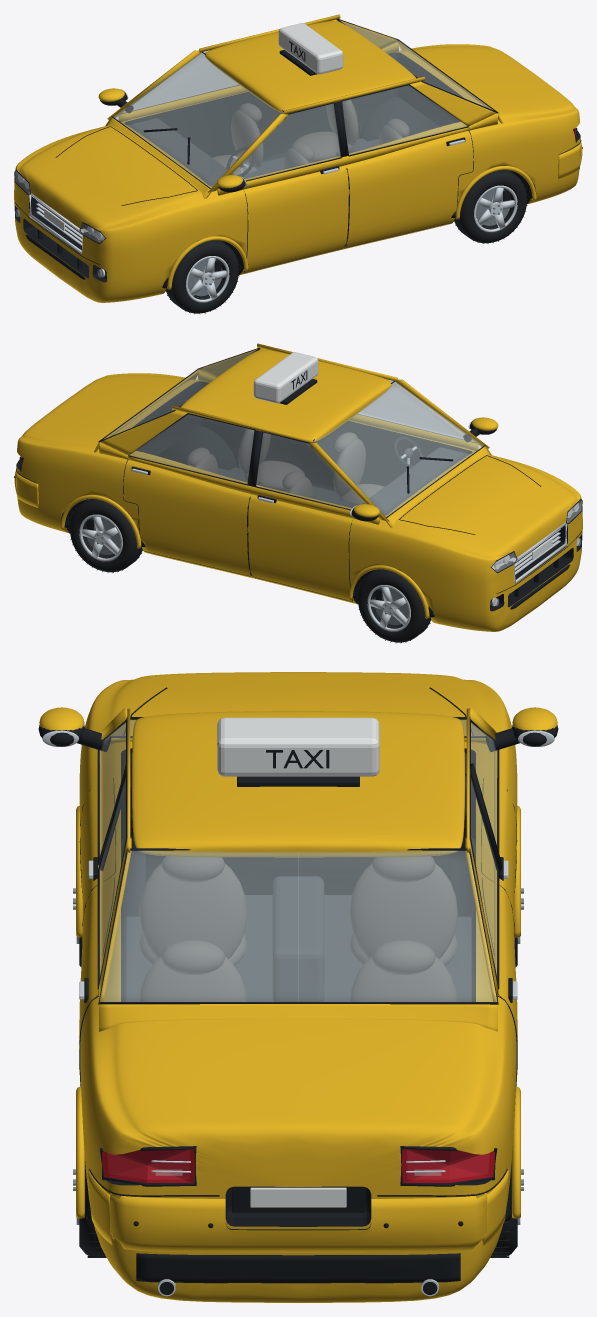
File: generic-city-taxi-with-taxi-roof-sign.glb
3 renders of one model, top to bottom at view 1: azimuth 30°, elevation 25°; view 2: azimuth 150°, elevation 25°; view 3: azimuth 270°, elevation 25°, orthographic. The views are drawn at different scales.
Visible parts, largest first — view 1: Original city_taxi fourteen-section body shell, Raked transparent windscreen, Separate closed door panel.001, Crowned roof pressing, Separate closed door panel, Rear door transparent glass, Front door transparent glass, Separate closed door panel.002, Separate closed door panel.003, Original tyre carcass and shaped sidewalls, Original tyre carcass and shaped sidewalls.002, Front door transparent glass.001 (+26 smaller); view 2: Original city_taxi fourteen-section body shell, Raked transparent windscreen, Separate closed door panel.003, Crowned roof pressing, Separate closed door panel.002, Rear door transparent glass.001, Front door transparent glass.001, Separate closed door panel, Separate closed door panel.001, Original tyre carcass and shaped sidewalls.001, Original tyre carcass and shaped sidewalls.003, Front door transparent glass (+27 smaller); view 3: Original city_taxi fourteen-section body shell, Rear transparent coupe glass, Crowned roof pressing, Formed painted rear bumper cover, TAXI roof sign, Sculpted rear lower bumper insert, Interior carpet, Contoured seat back, Contoured seat back.001, Painted rear glass sill, Center console, Contoured seat back.002 (+31 smaller).
Part boxes in pixels (x1,y1,x2,y2): Original city_taxi fourteen-section body shell: [14, 44, 580, 302]; Raked transparent windscreen: [113, 52, 283, 187]; Separate closed door panel.001: [345, 131, 473, 246]; Crowned roof pressing: [205, 20, 415, 112]; Separate closed door panel: [243, 165, 348, 272]; Rear door transparent glass: [342, 85, 467, 154]; Front door transparent glass: [231, 103, 340, 180]; Separate closed door panel.002: [149, 92, 250, 157]; Separate closed door panel.003: [251, 94, 374, 162]; Original tyre carcass and shaped sidewalls: [166, 240, 238, 313]; Original tyre carcass and shaped sidewalls.002: [455, 170, 526, 243]; Front door transparent glass.001: [122, 50, 238, 113]; Original city_taxi fourteen-section body shell: [16, 373, 582, 631]; Raked transparent windscreen: [313, 381, 483, 516]; Separate closed door panel.003: [123, 460, 250, 575]; Crowned roof pressing: [181, 349, 391, 441]; Separate closed door panel.002: [248, 494, 353, 601]; Rear door transparent glass.001: [129, 414, 254, 483]; Front door transparent glass.001: [256, 432, 365, 509]; Separate closed door panel: [346, 421, 447, 486]; Separate closed door panel.001: [222, 423, 345, 491]; Original tyre carcass and shaped sidewalls.001: [358, 569, 430, 642]; Original tyre carcass and shaped sidewalls.003: [70, 499, 142, 572]; Front door transparent glass: [358, 379, 474, 442]; Original city_taxi fourteen-section body shell: [79, 672, 517, 1302]; Rear transparent coupe glass: [100, 850, 496, 1001]; Crowned roof pressing: [132, 711, 464, 857]; Formed painted rear bumper cover: [110, 1193, 486, 1252]; TAXI roof sign: [217, 717, 379, 776]; Sculpted rear lower bumper insert: [136, 1253, 460, 1283]; Interior carpet: [125, 895, 471, 1001]; Contoured seat back: [139, 863, 247, 958]; Contoured seat back.001: [349, 863, 457, 958]; Painted rear glass sill: [99, 1004, 497, 1031]; Center console: [272, 876, 324, 1001]; Contoured seat back.002: [139, 956, 246, 1001].
Bounding box in the file's own units: 4.59 × 1.77 × 2.11.
13 materials, 13 textured.
